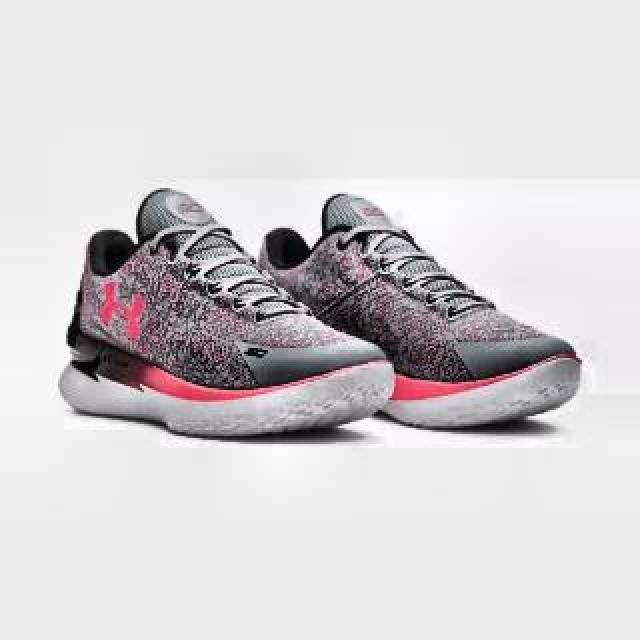shoe: (61, 190, 393, 434), (245, 193, 581, 429)
